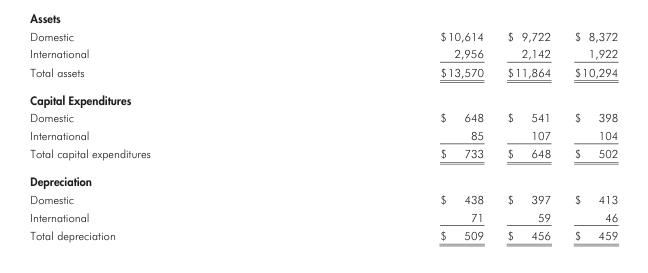table: (29, 28, 617, 241)
table column: (29, 28, 294, 241), (294, 28, 494, 241), (494, 28, 561, 241), (561, 28, 617, 241)
table column header: (29, 28, 617, 44)
table projected row header: (29, 166, 617, 190), (29, 85, 617, 108)
table row: (29, 166, 617, 190), (29, 62, 617, 85), (29, 85, 617, 108), (29, 144, 617, 166), (29, 44, 617, 62), (29, 108, 617, 126), (29, 126, 617, 144), (29, 207, 617, 225), (29, 190, 617, 207), (29, 28, 617, 44), (29, 225, 617, 241)
